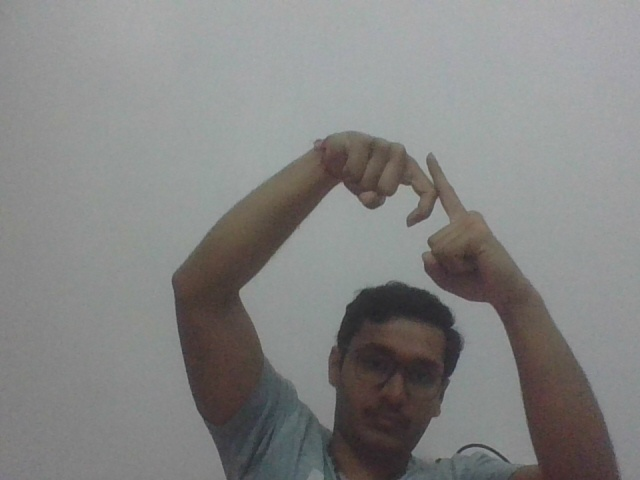K: (320, 125, 524, 296)
